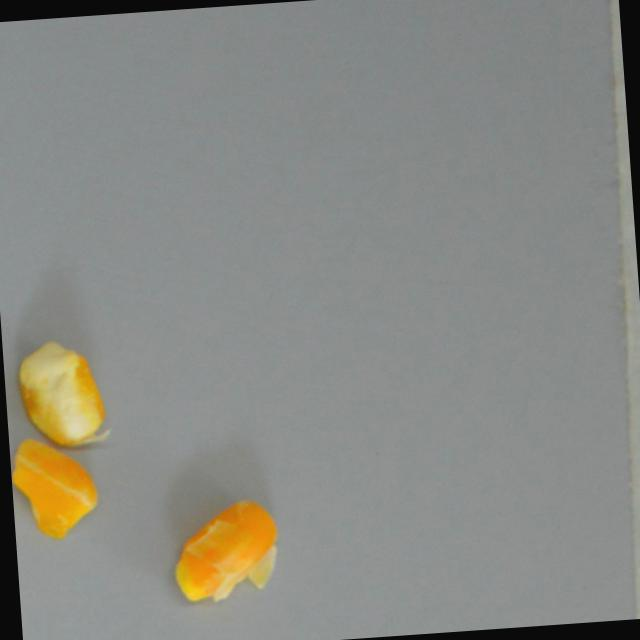pelicula: (1, 334, 126, 458), (163, 487, 287, 611), (6, 416, 119, 540)
